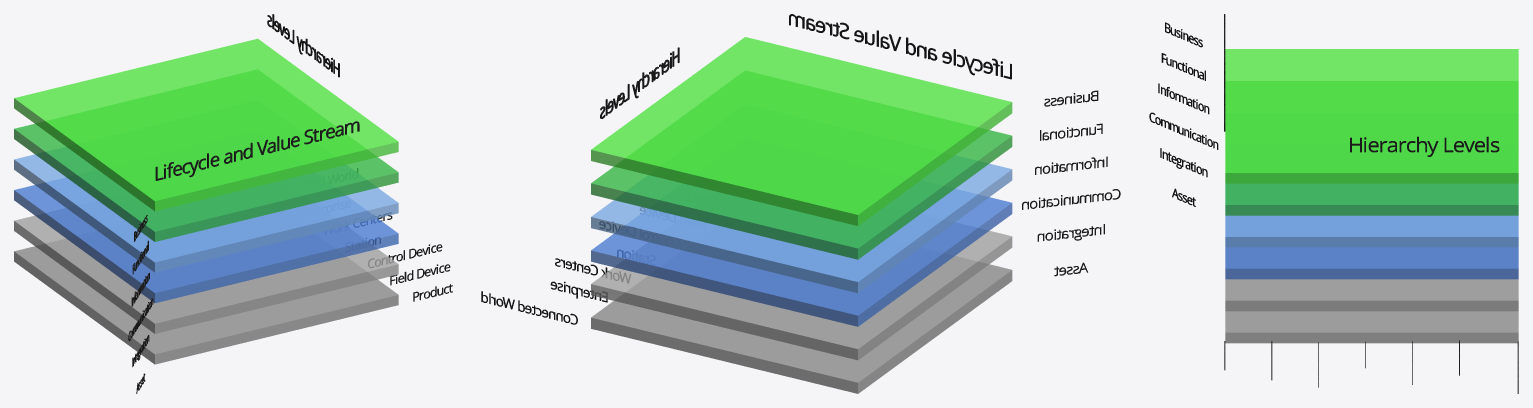
Rendered from RAMI 4.0.gltf.
The picture shows the model from 3 angles, left to right: view 1: azimuth 30°, elevation 25°; view 2: azimuth 150°, elevation 25°; view 3: azimuth 270°, elevation 25°; orthographic projection. The views are drawn at different scales.
Parts seen in each view (by area): view 1: Box 5, Box 4, Box 3, Box 2, Box 1, Box; view 2: Box 5, Box 4, Box 3, Box 2, Box, Box 1; view 3: Box 5, Box 4, Box 1, Box 2, Box 3, Box.
Boxes of the visible parts, bbox=[...] form: Box 5: bbox=[14, 38, 398, 211]; Box 4: bbox=[14, 70, 398, 241]; Box 3: bbox=[14, 147, 398, 272]; Box 2: bbox=[14, 178, 398, 303]; Box 1: bbox=[14, 209, 398, 333]; Box: bbox=[14, 239, 398, 364]; Box 5: bbox=[591, 37, 1012, 225]; Box 4: bbox=[591, 71, 1012, 259]; Box 3: bbox=[591, 156, 1012, 293]; Box 2: bbox=[591, 189, 1012, 326]; Box: bbox=[591, 256, 1012, 393]; Box 1: bbox=[591, 223, 1012, 360]; Box 5: bbox=[1225, 49, 1518, 183]; Box 4: bbox=[1225, 81, 1518, 215]; Box 1: bbox=[1225, 248, 1518, 311]; Box 2: bbox=[1225, 216, 1518, 279]; Box 3: bbox=[1225, 184, 1518, 247]; Box: bbox=[1225, 280, 1518, 343].
Bounding box in the file's own units: 0.1666 × 0.0789 × 0.1259.
